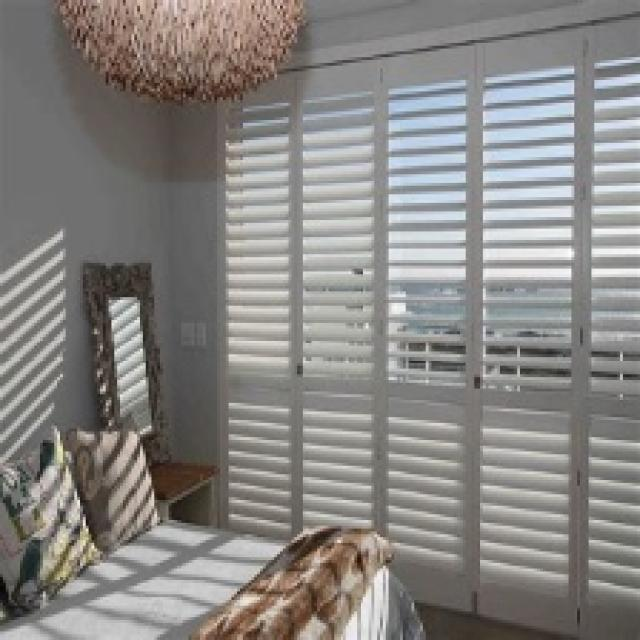Bed: (0, 514, 426, 637)
